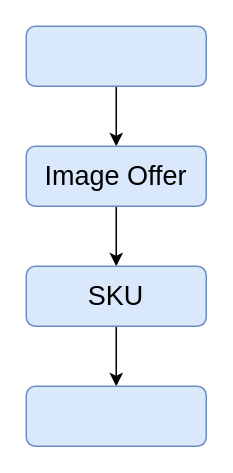
Image size: 233x473. Some labels were removed from this diagram. Each missing label, with the box of its shape:
Publisher: (25, 25, 206, 86)
Version: (25, 385, 206, 446)
